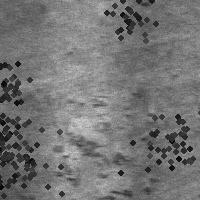rolled-in_scale: (32, 91, 157, 186), (0, 106, 72, 200), (125, 98, 200, 186), (92, 0, 162, 47), (48, 177, 164, 200), (0, 51, 37, 115), (0, 98, 34, 166)
